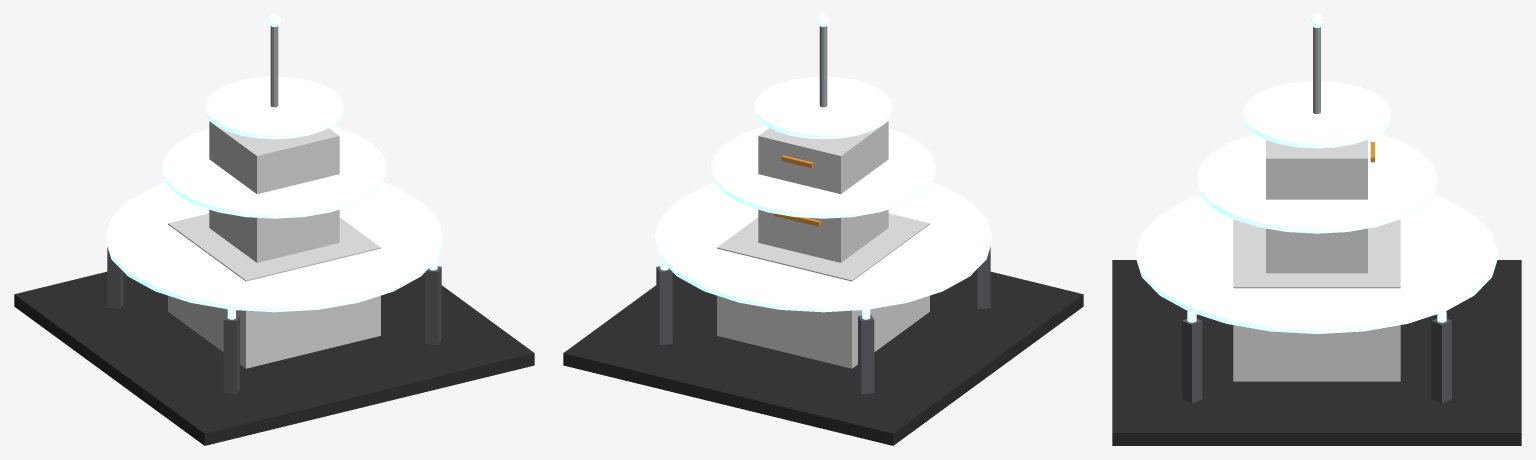
The model's file is SM_Hero_AegisSpire.fbx.
The picture shows the model from 3 angles, left to right: view 1: azimuth 30°, elevation 25°; view 2: azimuth 150°, elevation 25°; view 3: azimuth 270°, elevation 25°; orthographic projection. The views are drawn at different scales.
Parts seen in each view (by area): view 1: SM_Hero_AegisSpire; view 2: SM_Hero_AegisSpire; view 3: SM_Hero_AegisSpire.
Boxes of the visible parts, <box> form: SM_Hero_AegisSpire: <box>14,14,534,445</box>; SM_Hero_AegisSpire: <box>563,14,1083,445</box>; SM_Hero_AegisSpire: <box>1112,14,1521,445</box>.
Bounding box in the file's own units: 7.92 × 7.37 × 7.92.
